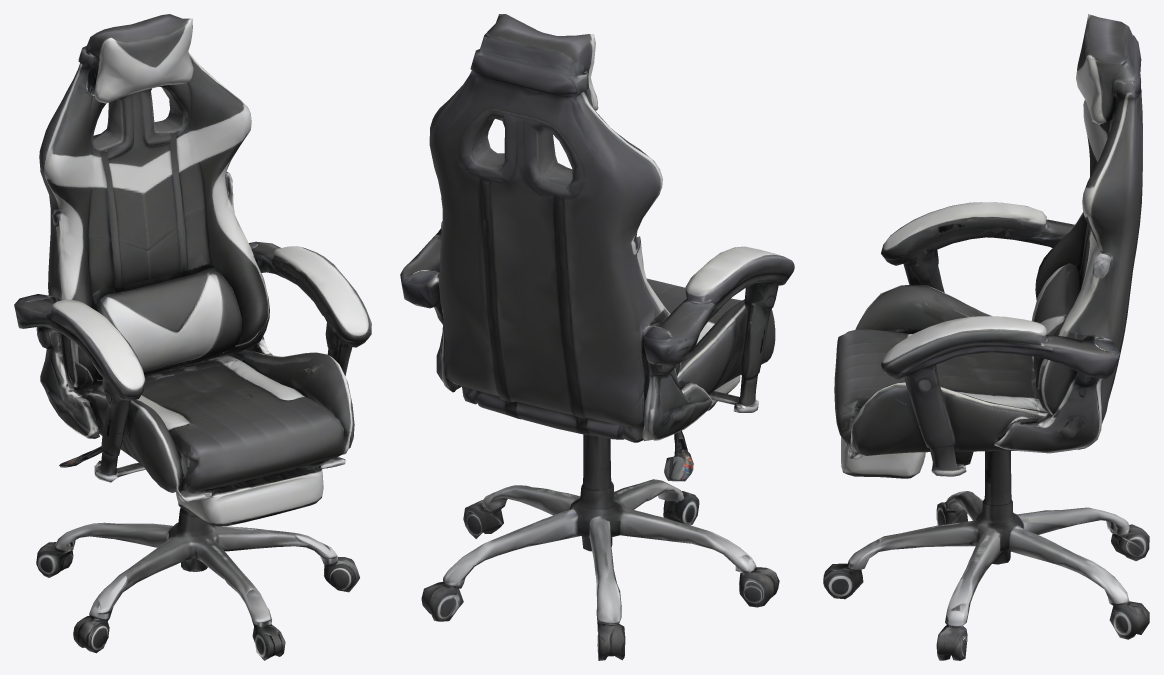
The picture shows the model from 3 angles, left to right: view 1: azimuth 30°, elevation 25°; view 2: azimuth 150°, elevation 25°; view 3: azimuth 270°, elevation 25°; orthographic projection. The views are drawn at different scales.
Parts seen in each view (by area): view 1: Mesh_0; view 2: Mesh_0; view 3: Mesh_0.
Boxes of the visible parts, x1,y1,x2,y2 form: Mesh_0: [14, 14, 371, 660]; Mesh_0: [400, 14, 794, 660]; Mesh_0: [823, 14, 1149, 660].
Bounding box in the file's own units: 0.6823 × 1.26 × 0.6631.
1 material, 1 textured.
